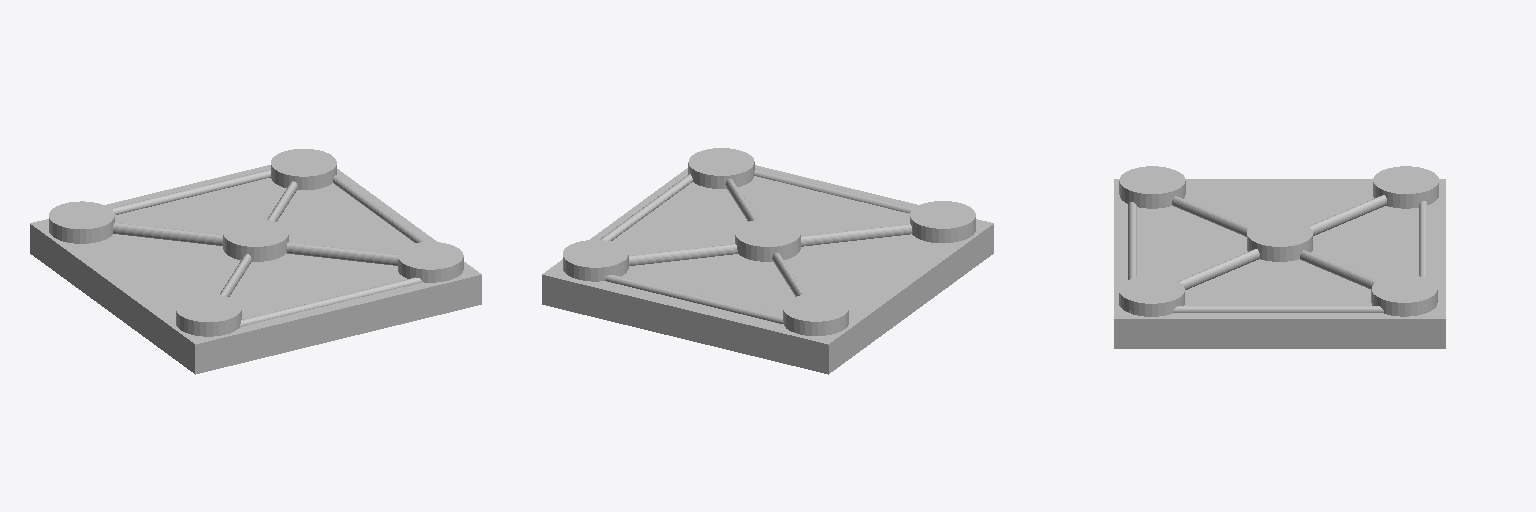
Rendered from tabuleiro.obj.
3 views of the same model, side by side, from view 1: azimuth 30°, elevation 25°; view 2: azimuth 150°, elevation 25°; view 3: azimuth 270°, elevation 25° (orthographic).
Parts seen in each view (by area): view 1: Cube; view 2: Cube; view 3: Cube.
Part boxes in pixels (x1,y1,x2,y2): Cube: (30,149,481,374); Cube: (542,148,993,374); Cube: (1114,166,1445,348).
Bounding box in the file's own units: 2 × 0.3062 × 2.